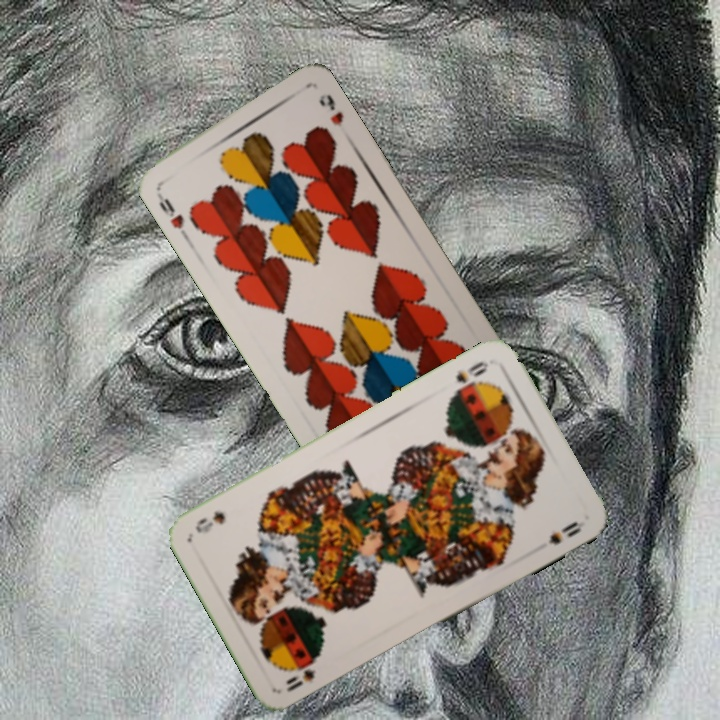H9: (155, 194, 191, 241)
SO: (450, 357, 491, 396), (281, 657, 320, 695)
